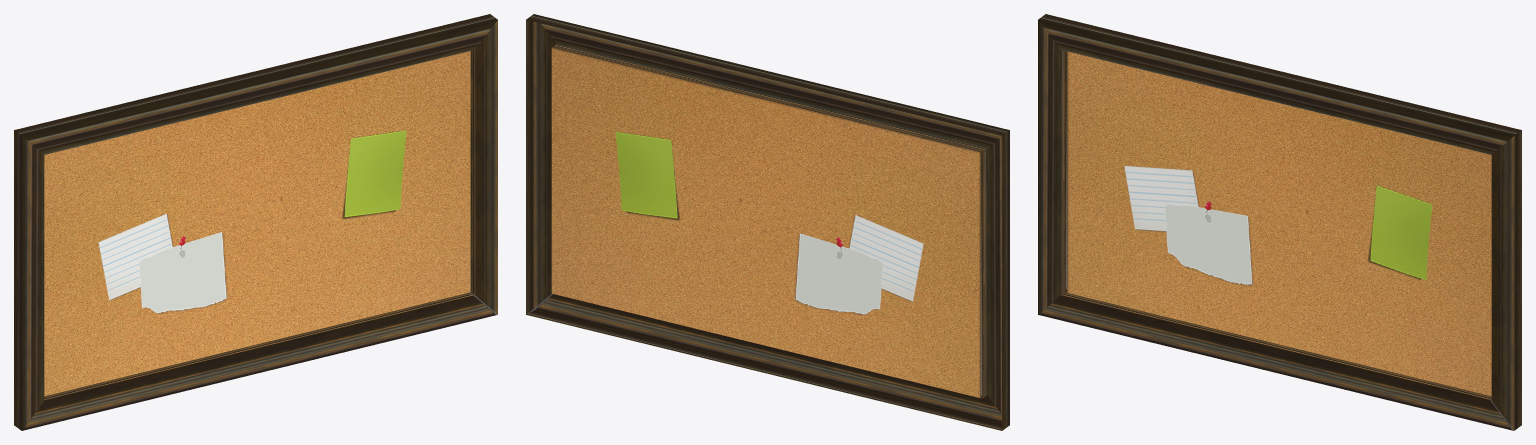
Rendered from 5_3_Board.gltf.
3 renders of one model, left to right at view 1: azimuth 30°, elevation 25°; view 2: azimuth 150°, elevation 25°; view 3: azimuth 330°, elevation 25°, orthographic.
Parts seen in each view (by area): view 1: Cube.099; view 2: Cube.099; view 3: Cube.099.
Part boxes in pixels (x1=…): Cube.099: x1=14, y1=14, x2=497, y2=430; Cube.099: x1=526, y1=14, x2=1009, y2=430; Cube.099: x1=1038, y1=14, x2=1521, y2=430.
Bounding box in the file's own units: 10.35 × 6.13 × 0.2948.
Materials: 1 (1 with a texture image).
